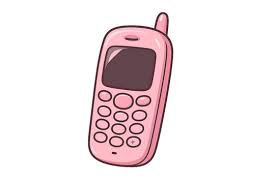phone: (73, 7, 185, 172)
